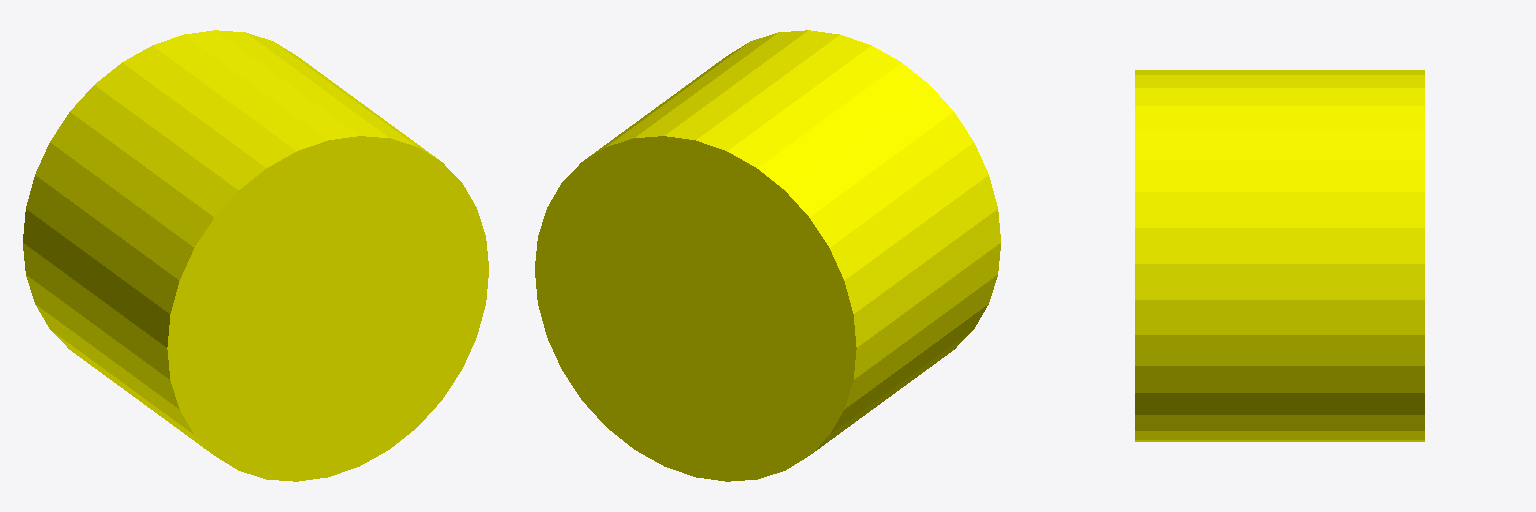
The model's file is GkukaBase.obj.
3 views of the same model, side by side, from view 1: azimuth 30°, elevation 25°; view 2: azimuth 150°, elevation 25°; view 3: azimuth 270°, elevation 25° (orthographic).
Parts seen in each view (by area): view 1: unnamed_object1; view 2: unnamed_object1; view 3: unnamed_object1.
Part boxes in pixels (x1,y1,x2,y2): unnamed_object1: (23, 30, 488, 481); unnamed_object1: (535, 30, 1000, 481); unnamed_object1: (1135, 70, 1424, 441).
Size of the model in its own units: 0.15 by 0.15 by 0.1167.